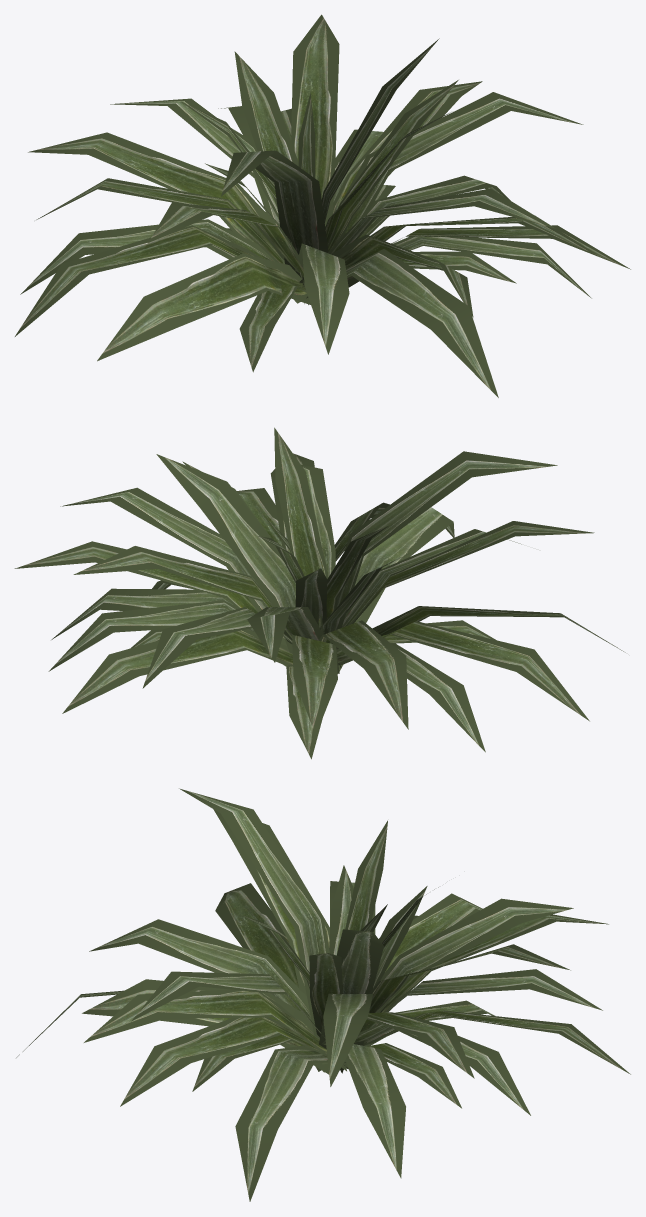
File: Dracaena_derm1_LOD1.fbx
3 renders of one model, top to bottom at view 1: azimuth 30°, elevation 25°; view 2: azimuth 150°, elevation 25°; view 3: azimuth 270°, elevation 25°, orthographic. The views are drawn at different scales.
Parts seen in each view (by area): view 1: polySurface44; view 2: polySurface44; view 3: polySurface44.
Part boxes in pixels (x1,y1,x2,y2): polySurface44: (15, 14, 630, 397); polySurface44: (14, 427, 625, 759); polySurface44: (16, 788, 630, 1201).
Bounding box in the file's own units: 1.74 × 0.7118 × 1.71.
1 material, 1 textured.
